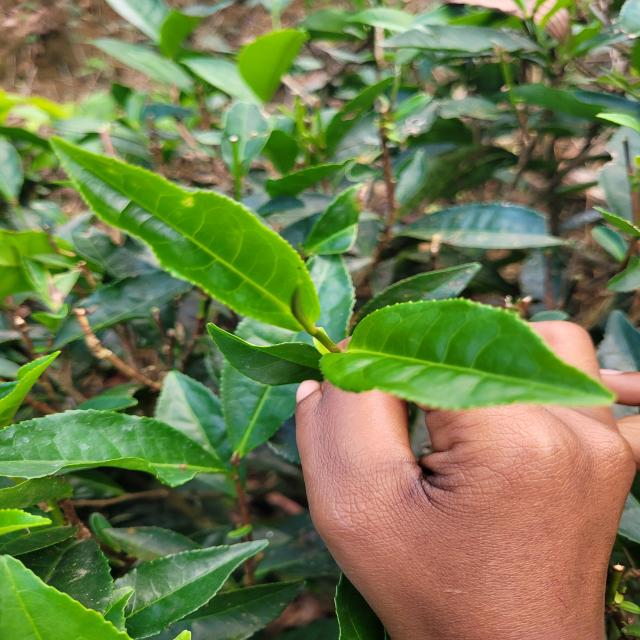Catagory A(1-2 days): (42, 124, 328, 344)
